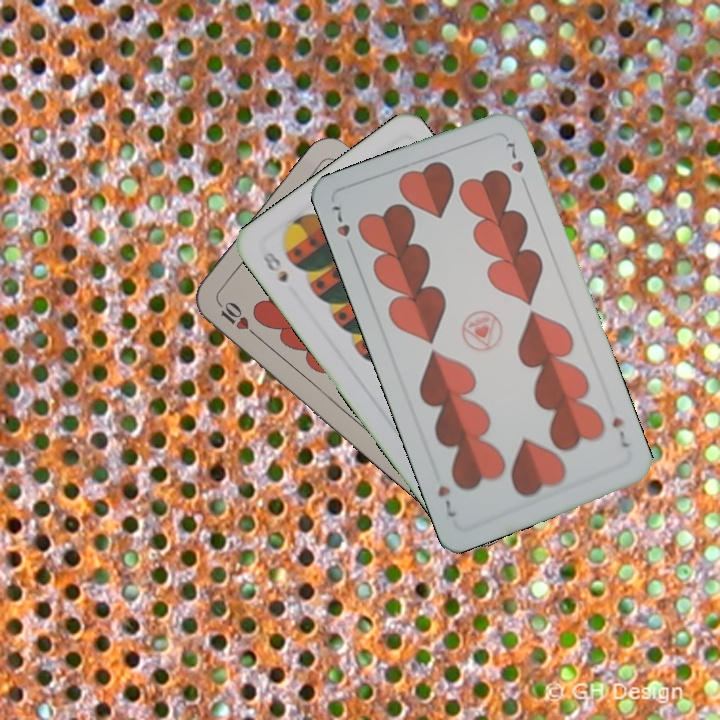H10: (212, 296, 261, 340)
H7: (327, 199, 357, 256), (608, 413, 632, 451)
S8: (258, 248, 291, 286)
